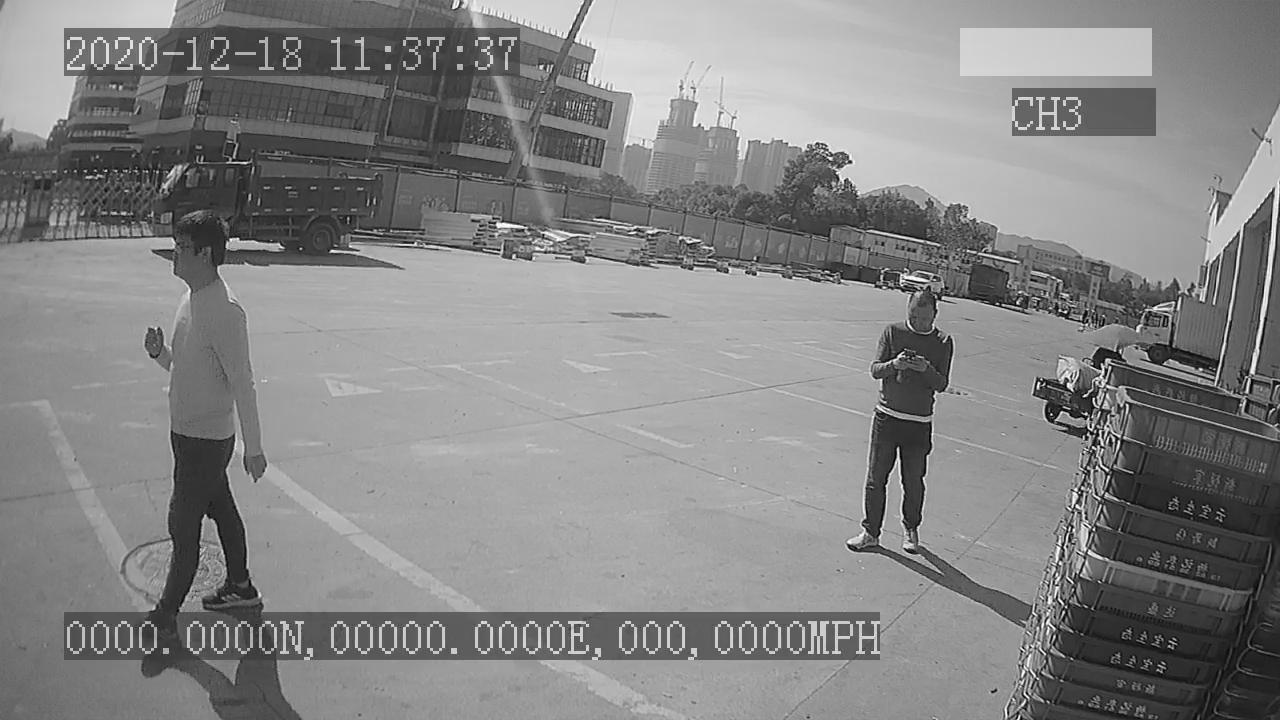person: (849, 284, 965, 562)
